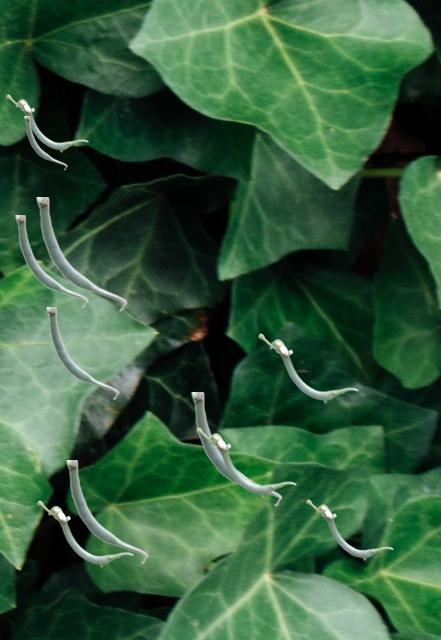french_bean: (191, 392, 281, 506), (36, 197, 126, 311), (66, 460, 147, 563), (196, 427, 295, 496), (258, 333, 357, 402), (15, 215, 87, 307), (46, 307, 118, 399), (37, 500, 132, 566), (306, 499, 392, 559), (6, 94, 87, 151), (24, 116, 66, 169)
